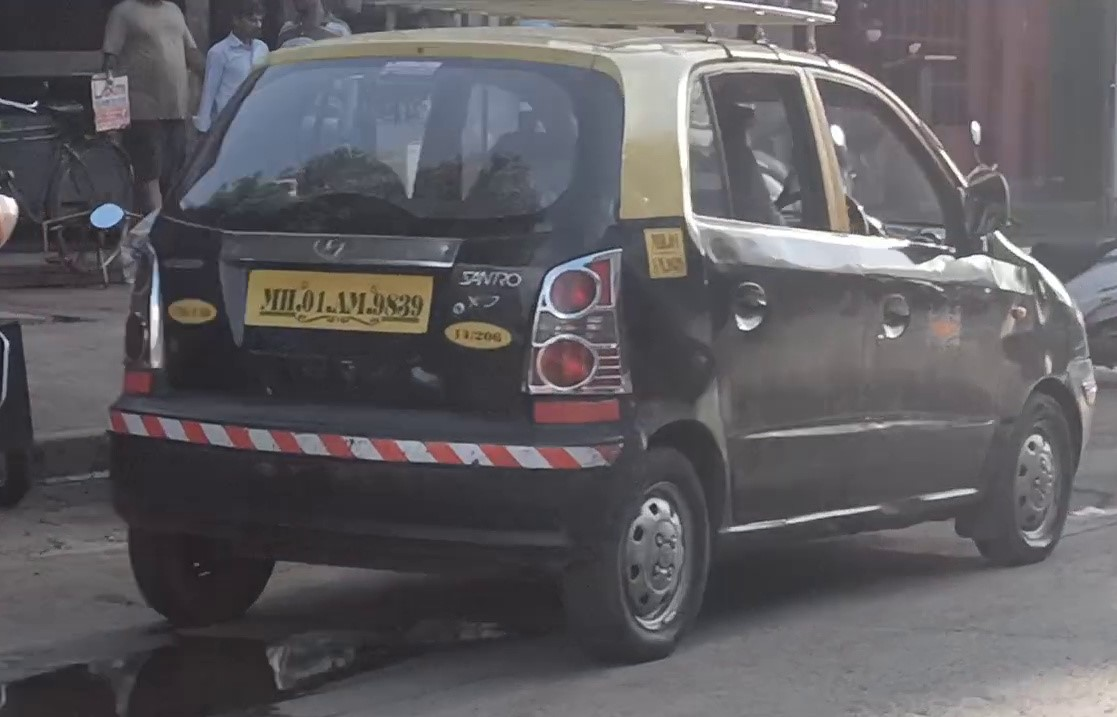MH01AM9839: (241, 269, 431, 332)
